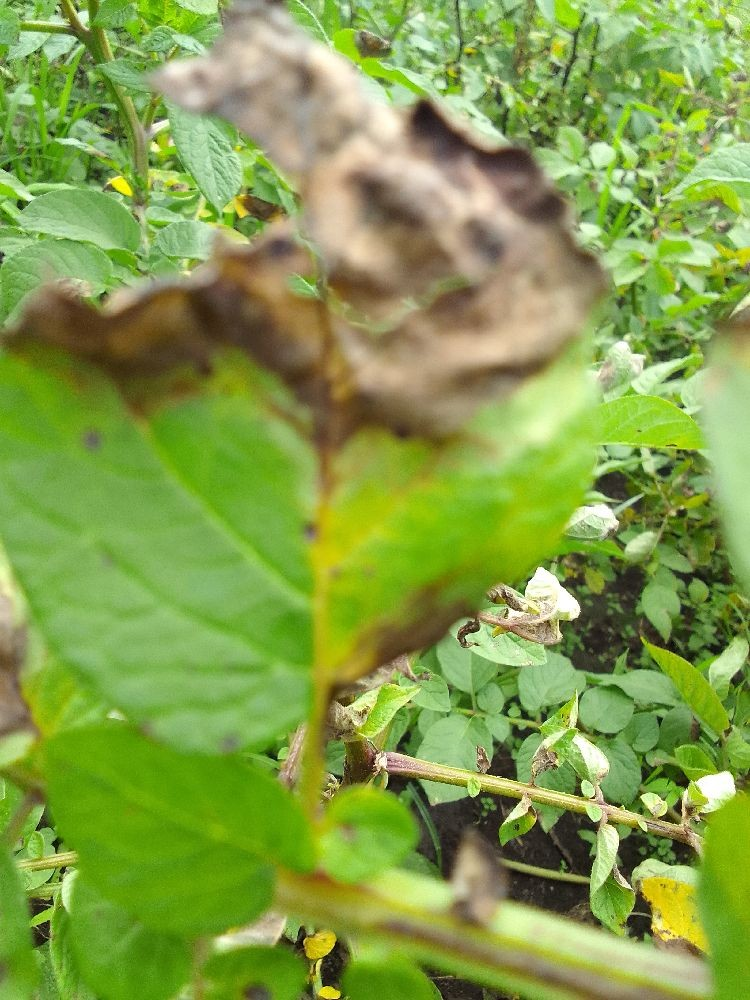late_blight: (0, 0, 625, 594), (341, 745, 710, 1000), (475, 529, 717, 695), (0, 571, 58, 757)
